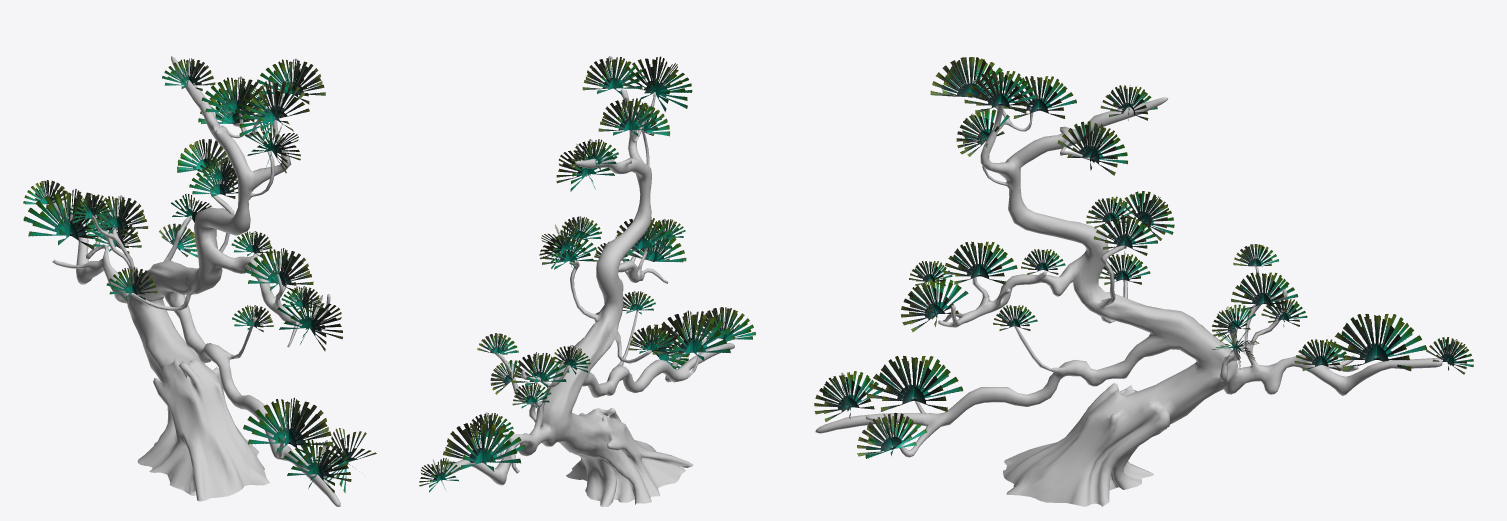
The model's file is songshu_1.fbx.
The picture shows the model from 3 angles, left to right: view 1: azimuth 30°, elevation 25°; view 2: azimuth 150°, elevation 25°; view 3: azimuth 270°, elevation 25°; orthographic projection. The views are drawn at different scales.
Visible parts, largest first — view 1: 松树_1, 松树叶_1; view 2: 松树_1, 松树叶_1; view 3: 松树_1, 松树叶_1.
Boxes of the visible parts, <box> form: 松树_1: <box>52,56,340,506</box>; 松树叶_1: <box>23,58,376,493</box>; 松树_1: <box>436,89,734,506</box>; 松树叶_1: <box>419,56,755,492</box>; 松树_1: <box>815,86,1442,506</box>; 松树叶_1: <box>814,57,1473,458</box>.
Size of the model in its own units: 824 by 2180 by 2892.
